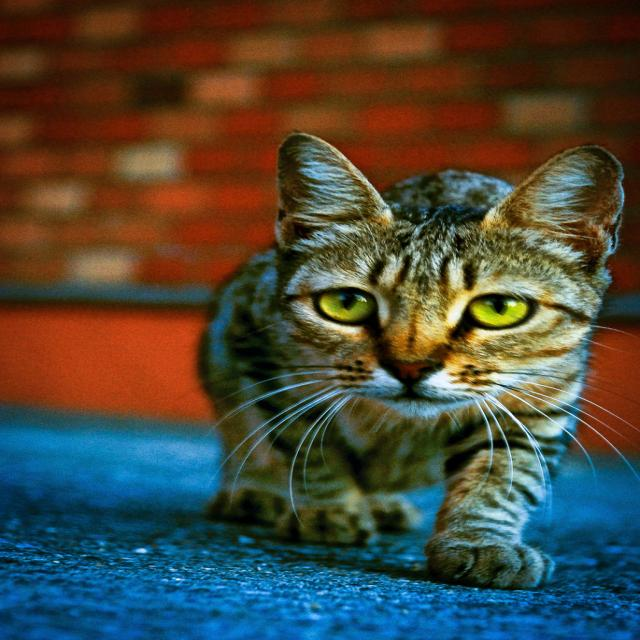Cat: (182, 133, 638, 588)
